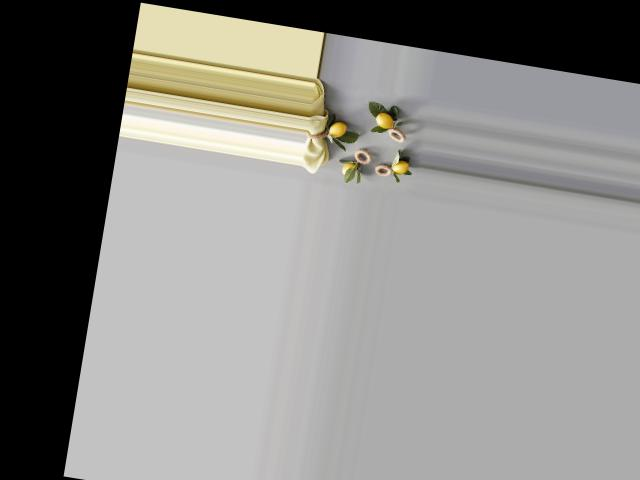lemon: (388, 154, 415, 176)
